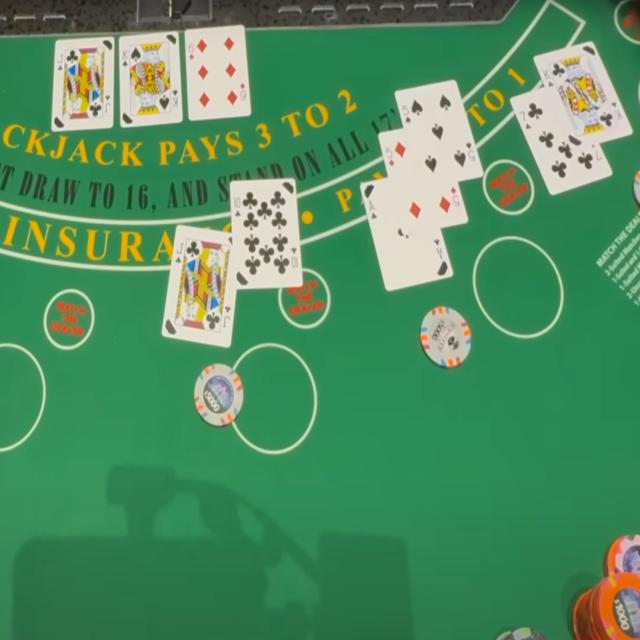10: (233, 196, 242, 210)
5: (401, 103, 411, 117), (384, 146, 394, 159)
6: (187, 40, 196, 54)
7: (518, 110, 527, 123)
A: (366, 198, 378, 212)
J: (176, 241, 184, 256), (57, 51, 64, 64)
K: (120, 47, 129, 61), (542, 68, 551, 81)
